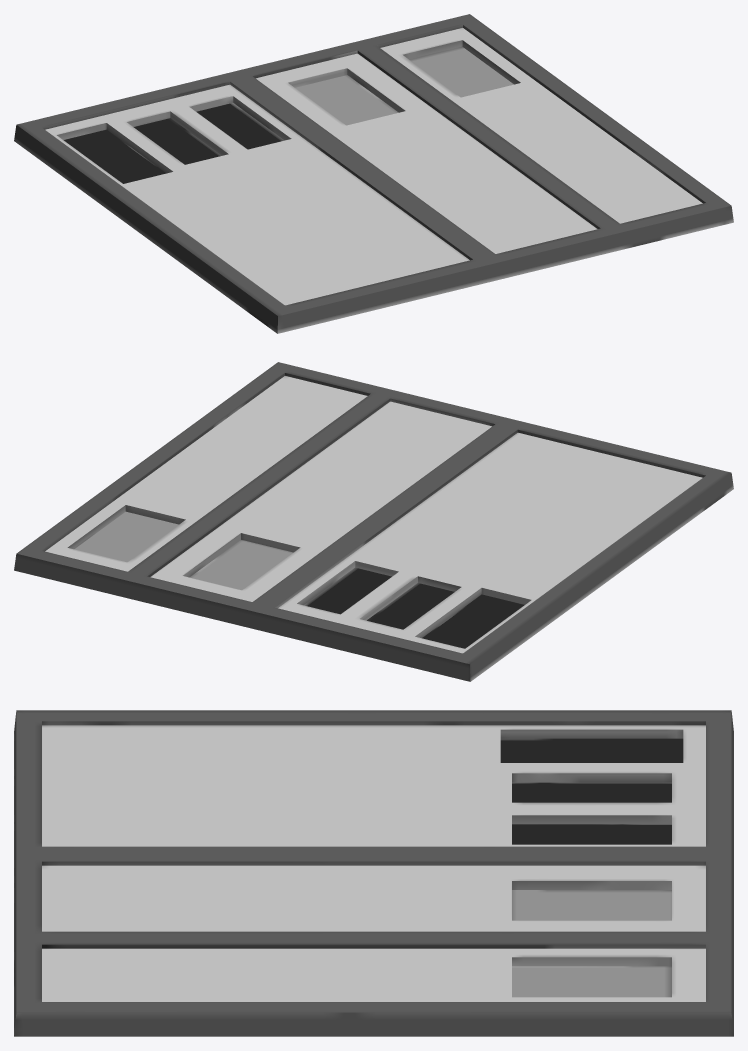
Rendered from Panel_D.fbx.
The picture shows the model from 3 angles, top to bottom: view 1: azimuth 30°, elevation 25°; view 2: azimuth 150°, elevation 25°; view 3: azimuth 270°, elevation 25°; orthographic projection. The views are drawn at different scales.
Parts seen in each view (by area): view 1: Panel_D; view 2: Panel_D; view 3: Panel_D.
Part boxes in pixels (x1,y1,x2,y2): Panel_D: (14, 14, 733, 333); Panel_D: (14, 362, 733, 681); Panel_D: (14, 710, 733, 1036).
Size of the model in its own units: 200 by 6.97 by 200.
